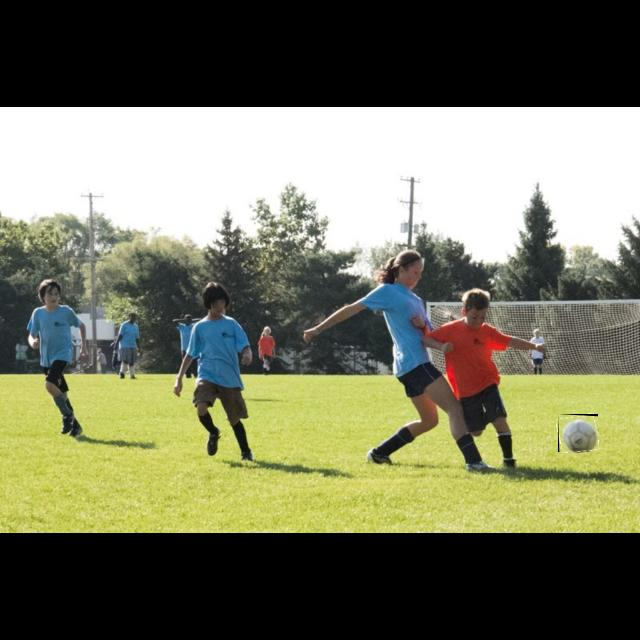Football: (558, 414, 598, 452)
